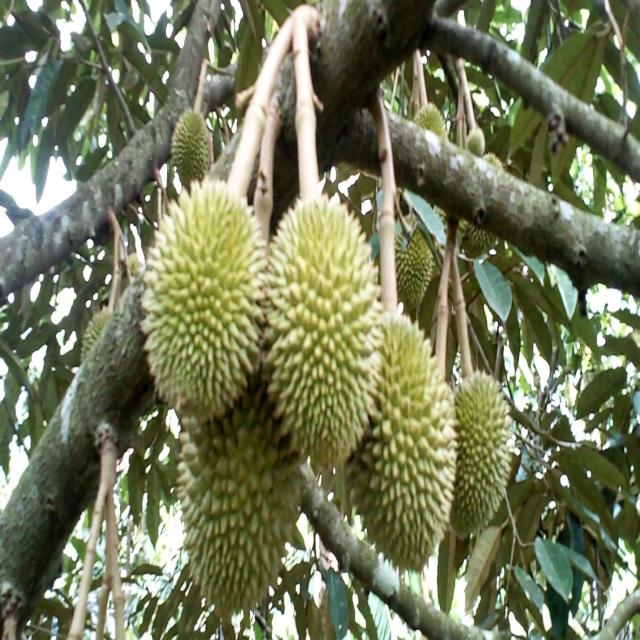immature: (262, 192, 385, 461), (140, 176, 269, 420), (176, 375, 307, 608), (343, 318, 459, 568), (448, 373, 518, 535), (458, 156, 504, 257), (395, 227, 435, 311), (171, 110, 211, 188), (80, 307, 111, 364), (413, 102, 448, 140), (466, 127, 486, 156), (483, 152, 504, 170)
